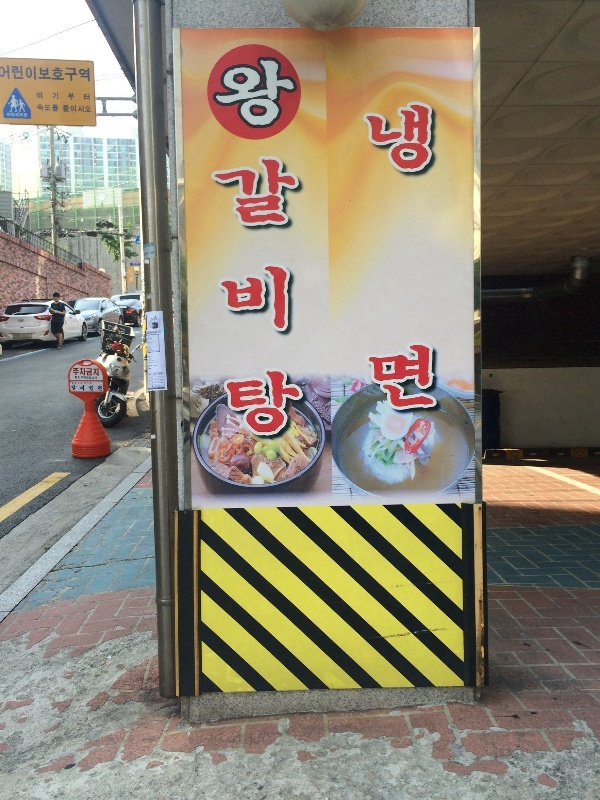text: (225, 58, 240, 442), (241, 58, 256, 442), (257, 58, 272, 442), (273, 58, 288, 442), (210, 58, 224, 442), (369, 99, 384, 413), (385, 99, 400, 413), (401, 99, 416, 413), (417, 99, 432, 413), (289, 58, 301, 442), (366, 99, 368, 413), (433, 99, 434, 413), (1, 64, 16, 83), (17, 64, 32, 83), (33, 64, 48, 83), (49, 64, 64, 83), (65, 64, 80, 83), (147, 354, 160, 370), (147, 337, 160, 352), (148, 374, 160, 390), (81, 64, 90, 83), (81, 367, 96, 377), (49, 92, 64, 101), (65, 92, 80, 101), (65, 105, 80, 113), (153, 373, 160, 389), (81, 385, 96, 392), (37, 92, 48, 101), (81, 105, 92, 113), (37, 104, 48, 112), (81, 92, 90, 101), (49, 104, 59, 112), (21, 138, 32, 145), (73, 367, 80, 377), (161, 373, 165, 389), (81, 376, 96, 380), (145, 251, 155, 257), (146, 331, 160, 335), (72, 385, 80, 392), (17, 112, 28, 117), (145, 243, 154, 249), (7, 112, 16, 117), (20, 319, 32, 322), (132, 263, 144, 266), (97, 385, 102, 392), (81, 382, 92, 385), (72, 382, 80, 385), (5, 322, 16, 324), (97, 367, 99, 377), (62, 105, 64, 113), (75, 376, 80, 379)
